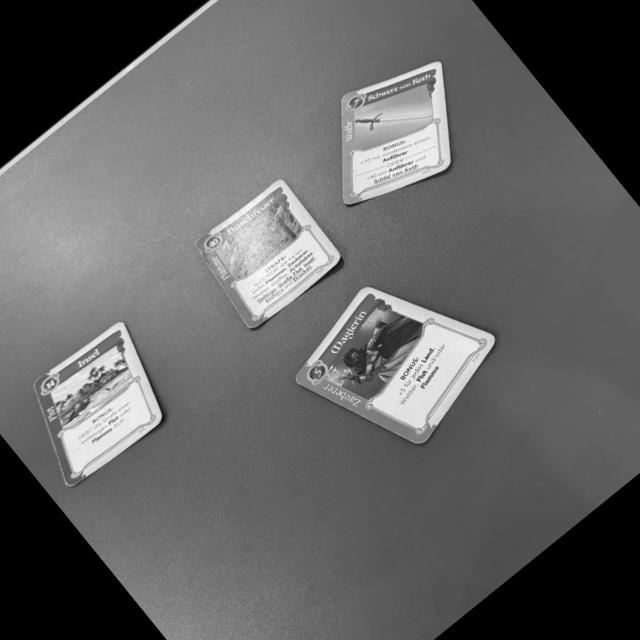Elemental Enchantress: (288, 282, 508, 451)
Island: (32, 316, 164, 491)
Sword of Keth: (338, 57, 455, 207)
Wildfire: (194, 176, 346, 331)
